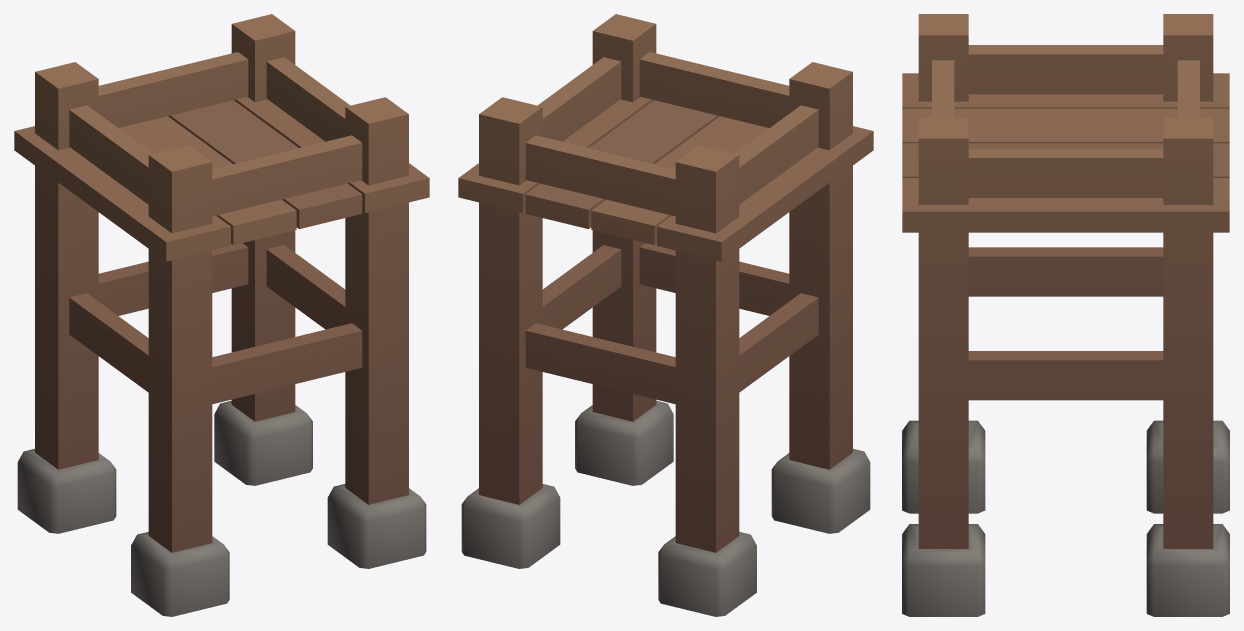
Rendered from TD_archerTower_1.fbx.
3 views of the same model, side by side, from view 1: azimuth 30°, elevation 25°; view 2: azimuth 150°, elevation 25°; view 3: azimuth 270°, elevation 25° (orthographic). The views are drawn at different scales.
Visible parts, largest first — view 1: archerTower_1; view 2: archerTower_1; view 3: archerTower_1.
Boxes of the visible parts, box(x1,y1,x2,y2) form: archerTower_1: box(14, 14, 429, 616); archerTower_1: box(458, 14, 873, 616); archerTower_1: box(902, 14, 1229, 616).
Bounding box in the file's own units: 147 × 233 × 147.
